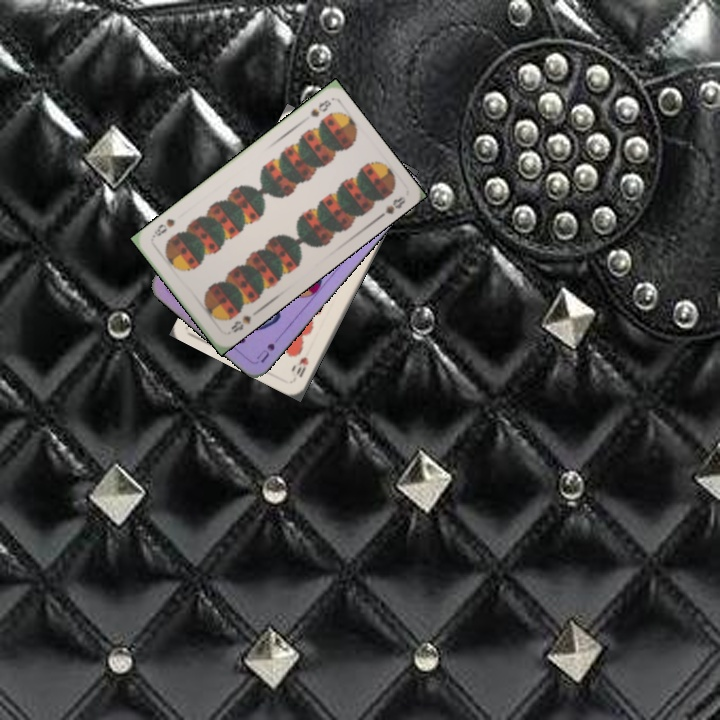H10: (292, 353, 311, 380)
S8: (306, 96, 334, 120), (227, 311, 253, 335)
SU: (252, 330, 285, 365)
